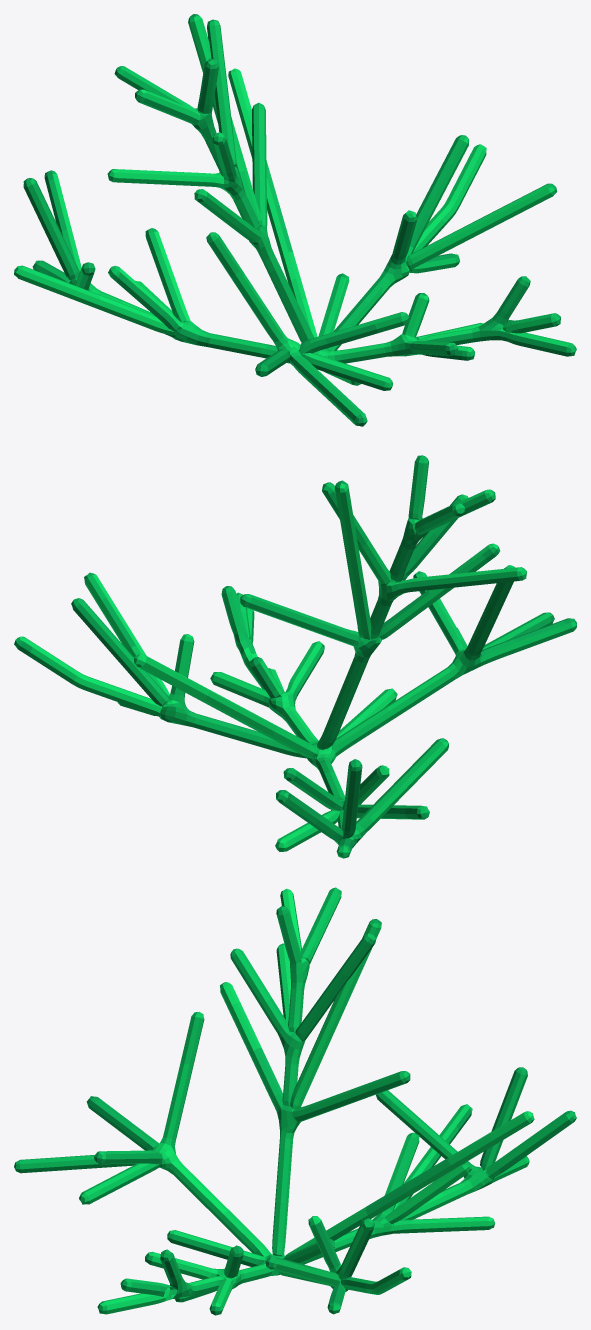
Rendered from hydrilla.obj.
3 views of the same model, one above another, from view 1: azimuth 30°, elevation 25°; view 2: azimuth 150°, elevation 25°; view 3: azimuth 270°, elevation 25° (orthographic). The views are drawn at different scales.
Visible parts, largest first — view 1: Cube; view 2: Cube; view 3: Cube.
Part boxes in pixels (x1,y1,x2,y2): Cube: (14,14,576,426); Cube: (14,455,576,858); Cube: (14,887,576,1315).
Bounding box in the file's own units: 1.29 × 0.9283 × 1.48.
